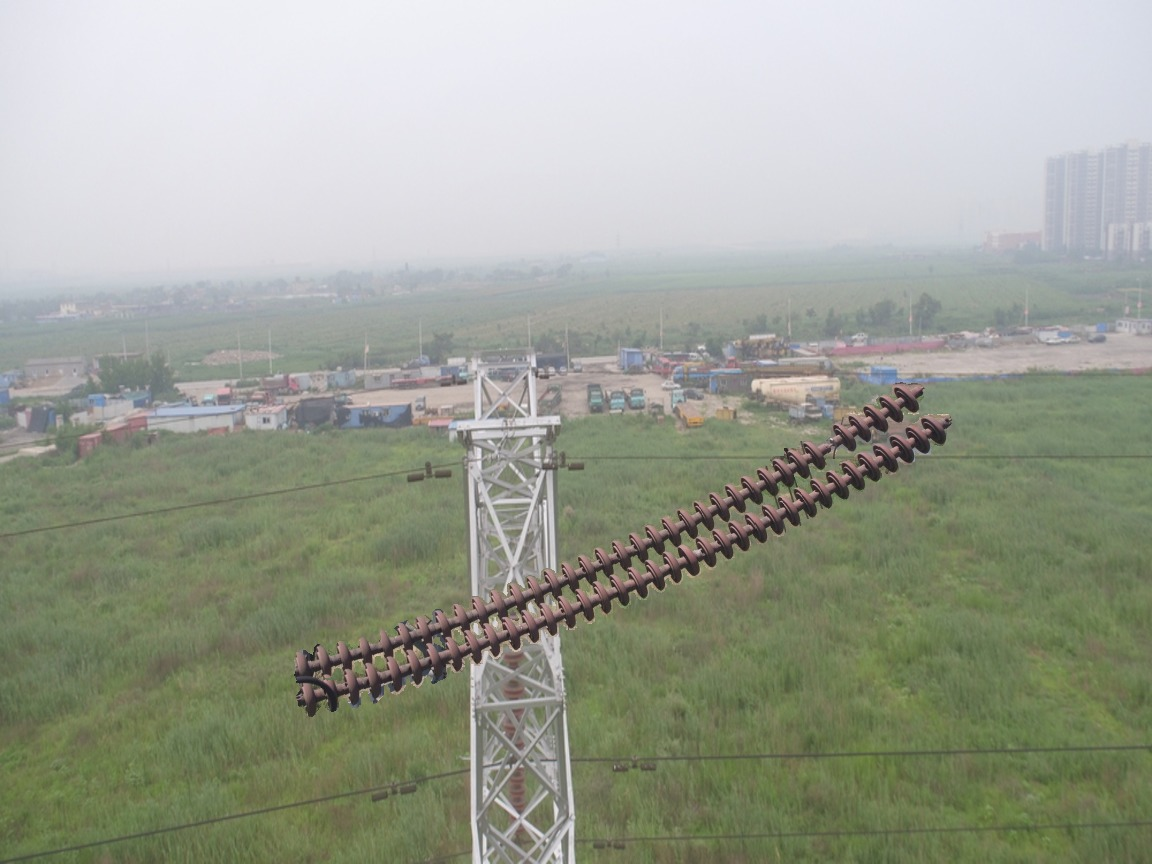defect: (799, 416, 856, 471)
